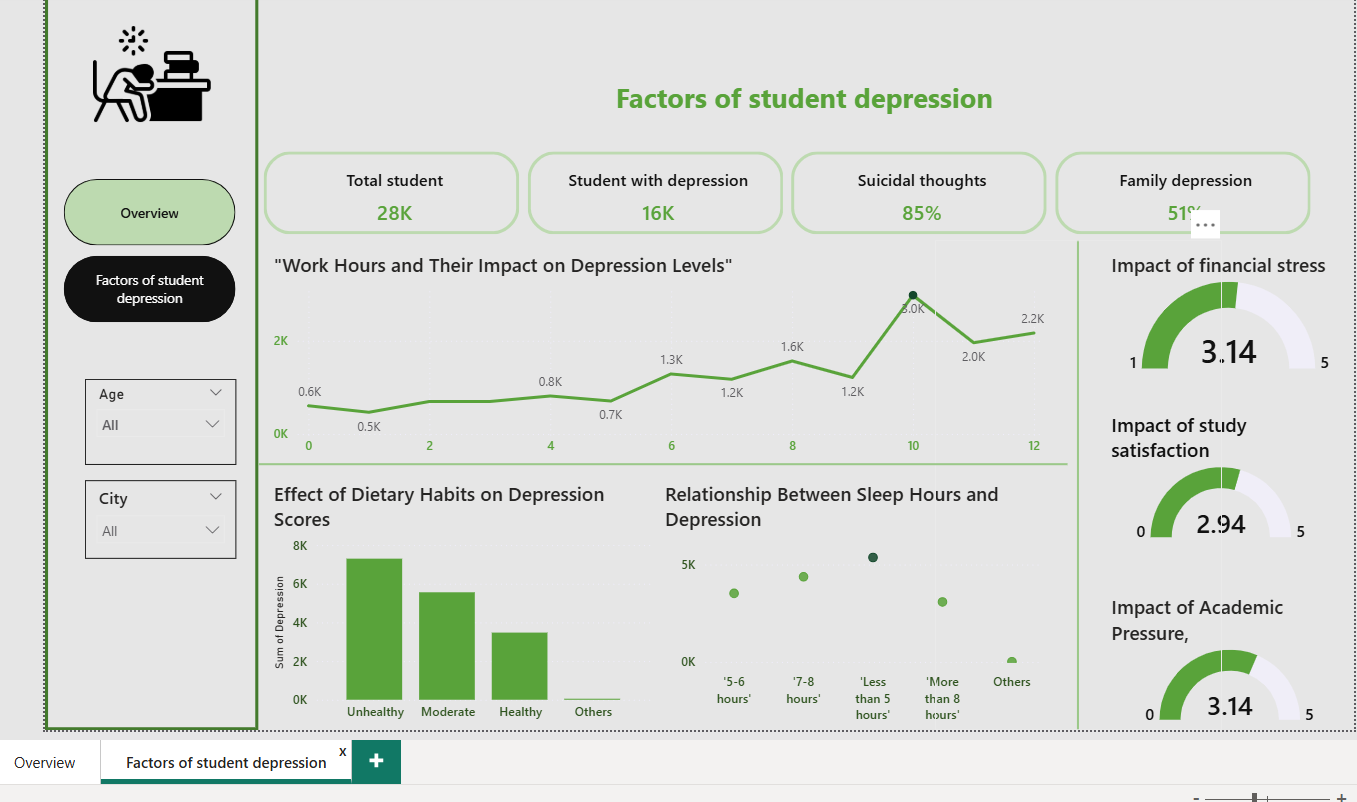

This screenshot's page, from the dashboard's own definition file:
{"tool":"powerbi","page":{"name":"Factors of student depression","canvas":[1280,720],"ordinal":1},"visuals":[{"type":"slicer","fields":{"Values":["student_depression_dataset.Age"]},"box":[39.1,376.8,147.8,84.1],"z":0},{"type":"textbox","box":[266.6,78.3,959.9,48.9],"z":2000},{"type":"shape","box":[0,0,208.7,720.3],"z":3000},{"type":"image","box":[29,15.9,150.7,124.6],"z":4000},{"type":"pageNavigator","box":[18.8,181.2,168.1,140.6],"z":5000},{"type":"cardVisual","fields":{"Data":["student_depression_dataset.total student","Sum(student_depression_dataset.Depression)","student_depression_dataset.suicidalthoughts","student_depression_dataset.percentagefamilydeprrssion"]},"box":[208.7,149.3,1034.8,91.3],"z":6000},{"type":"gauge","title":"Impact of financial stress","fields":{"Y":["Avg(student_depression_dataset.Financial Stress)"],"MinValue":["Min(student_depression_dataset.Financial Stress)1"],"MaxValue":["Max(student_depression_dataset.Financial Stress)2"]},"box":[1037.7,252.2,242,124.6],"z":7000},{"type":"gauge","title":"Impact of study satisfaction ","fields":{"Y":["Avg(student_depression_dataset.Study Satisfaction)"],"MinValue":["Min(student_depression_dataset.Study Satisfaction)1"],"MaxValue":["Max(student_depression_dataset.Study Satisfaction)2"]},"box":[1037.7,408.7,224.6,133.3],"z":8000},{"type":"gauge","title":"Impact of Academic Pressure,","fields":{"Y":["Avg(student_depression_dataset.Academic Pressure)"],"MinValue":["Min(student_depression_dataset.Academic Pressure)1"],"MaxValue":["Max(student_depression_dataset.Academic Pressure)2"]},"box":[1037.7,587,242,133.3],"z":9000},{"type":"scatterChart","title":"Relationship Between Sleep Hours and Depression","fields":{"X":["student_depression_dataset.Sleep Duration"],"Y":["Sum(student_depression_dataset.Depression)"]},"box":[601.4,475.4,381.2,244.9],"z":10000},{"type":"columnChart","title":"Effect of Dietary Habits on Depression Scores","fields":{"Category":["student_depression_dataset.Dietary Habits"],"Y":["Sum(student_depression_dataset.Depression)"]},"box":[218.8,475.4,379.7,244.9],"z":11000},{"type":"lineChart","title":"\"Work Hours and Their Impact on Depression Levels\"","fields":{"Category":["student_depression_dataset.Work/Study Hours"],"Y":["Sum(student_depression_dataset.Depression)"]},"box":[218.8,252.2,763.8,208.7],"z":12000},{"type":"slicer","fields":{"Values":["student_depression_dataset.City"]},"box":[39.1,475.4,147.8,76.8],"z":13000},{"type":"shape","box":[871,240.6,279.7,479.7],"z":14000},{"type":"shape","box":[208.7,220.3,791.3,479.7],"z":15000}]}

Visuals, with their boxes on the page's 1280x720 design canvas (x1, y1, x2, y2). These are canvas units, not pixel positions in the 1357x802 screenshot, which may show the page scaled, cropped or inside an application window:
slicer - student_depression_dataset.Age: select_region(39, 377, 187, 461)
textbox: select_region(267, 78, 1226, 127)
shape: select_region(0, 0, 209, 720)
image: select_region(29, 16, 180, 140)
pageNavigator: select_region(19, 181, 187, 322)
cardVisual - student_depression_dataset.total student x Sum(student_depression_dataset.Depression): select_region(209, 149, 1244, 241)
"Impact of financial stress" gauge: select_region(1038, 252, 1280, 377)
"Impact of study satisfaction " gauge: select_region(1038, 409, 1262, 542)
"Impact of Academic Pressure," gauge: select_region(1038, 587, 1280, 720)
"Relationship Between Sleep Hours and Depression" scatterChart: select_region(601, 475, 983, 720)
"Effect of Dietary Habits on Depression Scores" columnChart: select_region(219, 475, 598, 720)
""Work Hours and Their Impact on Depression Levels"" lineChart: select_region(219, 252, 983, 461)
slicer - student_depression_dataset.City: select_region(39, 475, 187, 552)
shape: select_region(871, 241, 1151, 720)
shape: select_region(209, 220, 1000, 700)
